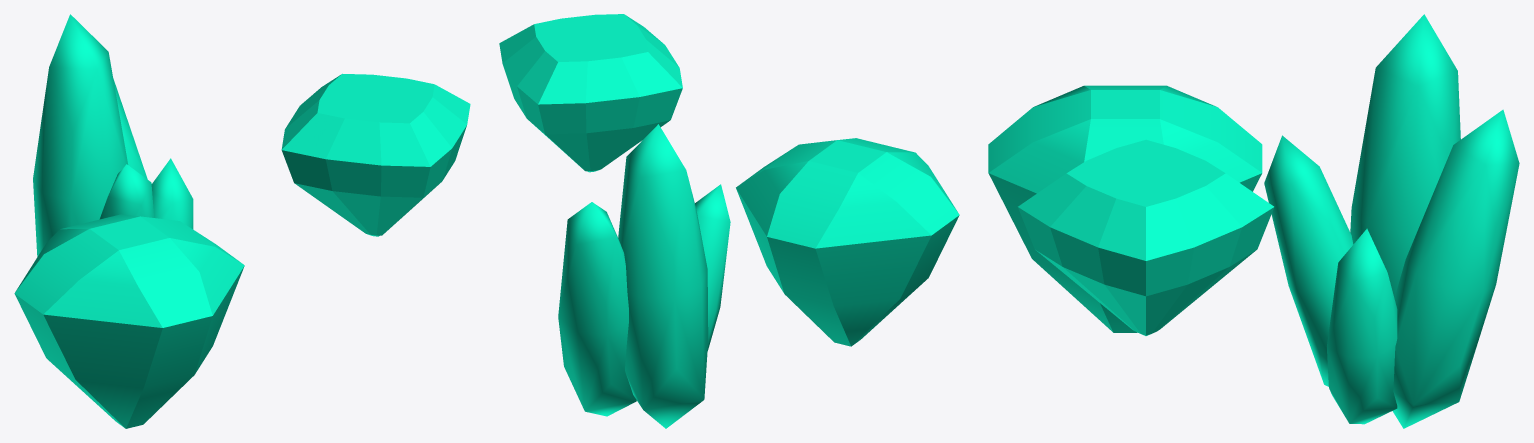
The model's file is crystals.fbx.
3 renders of one model, left to right at view 1: azimuth 30°, elevation 25°; view 2: azimuth 150°, elevation 25°; view 3: azimuth 270°, elevation 25°, orthographic. The views are drawn at different scales.
Visible parts, largest first — view 1: pPlane2, pPlane1, pCube2, pCube3, pCube1, pCube4; view 2: pPlane2, pCube2, pPlane1, pCube4, pCube3; view 3: pPlane1, pCube4, pPlane2, pCube2, pCube3, pCube1.
Part boxes in pixels (x1,y1,x2,y2): pPlane2: (14,214,244,428); pPlane1: (281,73,470,236); pCube2: (33,14,128,256); pCube3: (99,164,153,219); pCube1: (151,158,193,229); pCube4: (113,79,147,179); pPlane2: (736,138,959,346); pCube2: (618,124,708,428); pPlane1: (499,14,682,172); pCube4: (558,202,636,416); pCube3: (695,184,730,350); pPlane1: (1018,139,1274,335); pCube4: (1392,109,1519,428); pPlane2: (988,85,1262,332); pCube2: (1350,14,1460,297); pCube3: (1264,135,1353,386); pCube1: (1327,228,1397,424).
Bounding box in the file's own units: 4.2 × 2.89 × 3.65.
